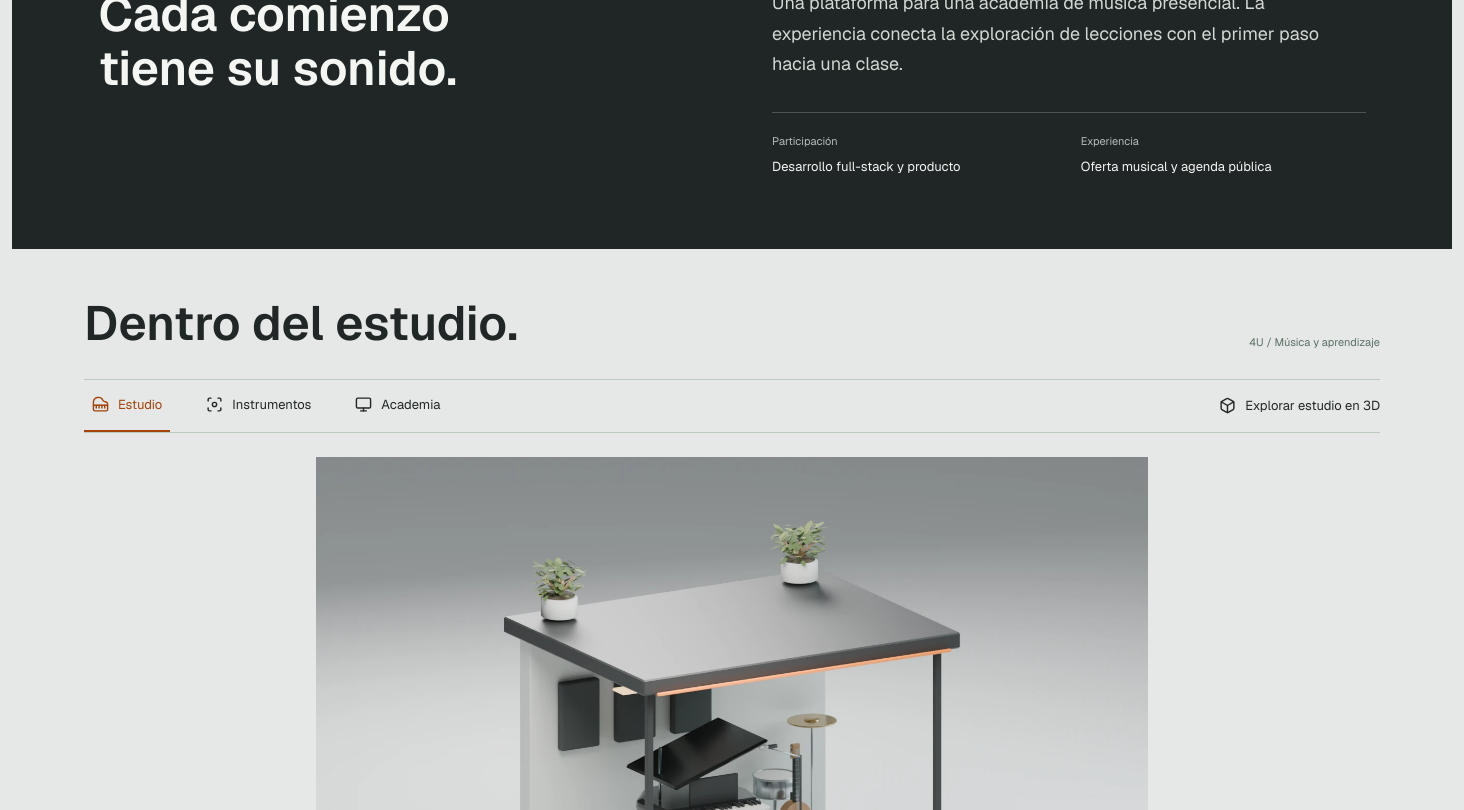
Scenario: Academy case › switches three views without loading a canvas
This screenshot has width=1464, height=810.
(page scrolled)
Click the button "Instrumentos" at (259, 406), box [198,380,319,432]
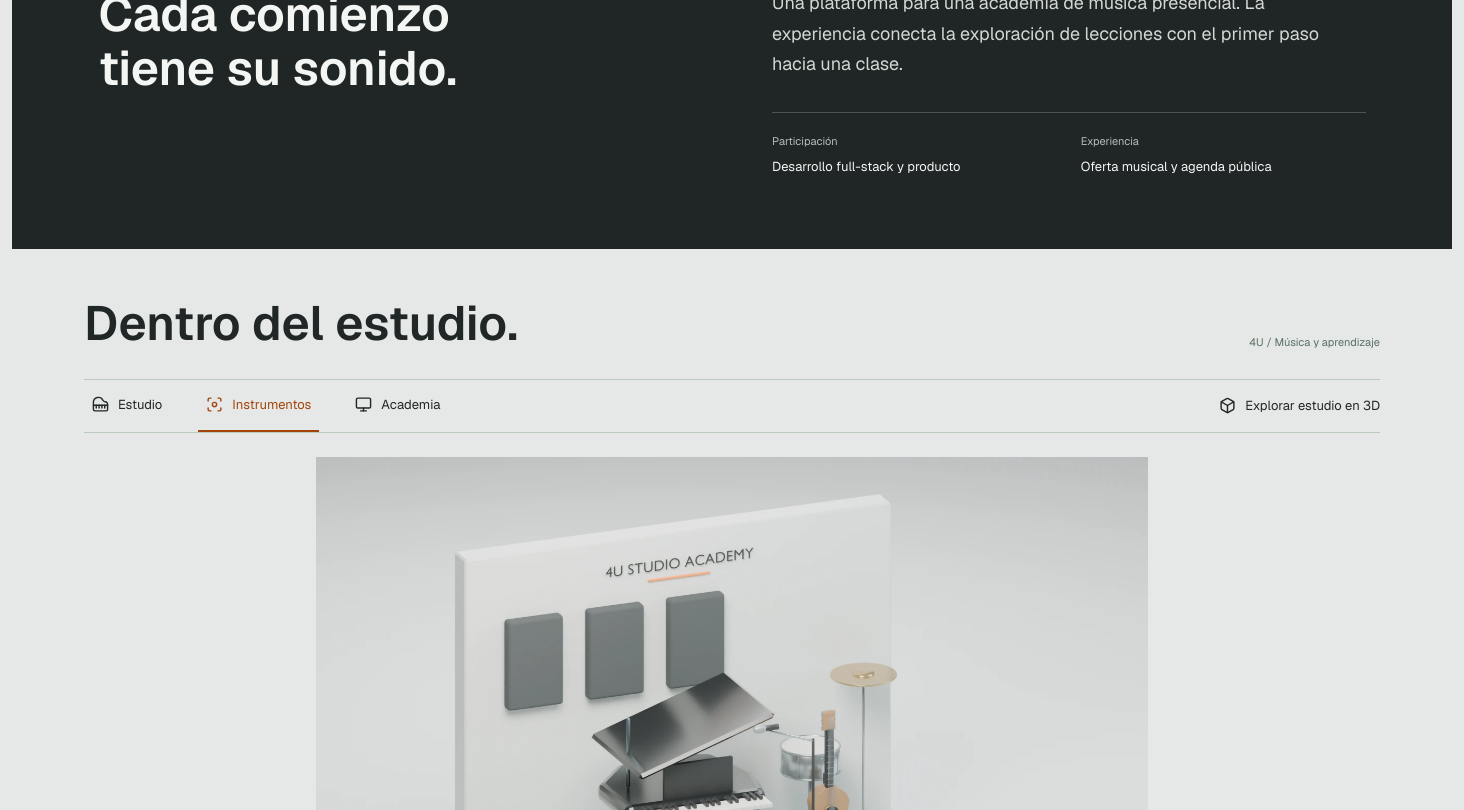
Click the button "Academia" at (398, 406), box [347,380,448,432]
(page scrolled)
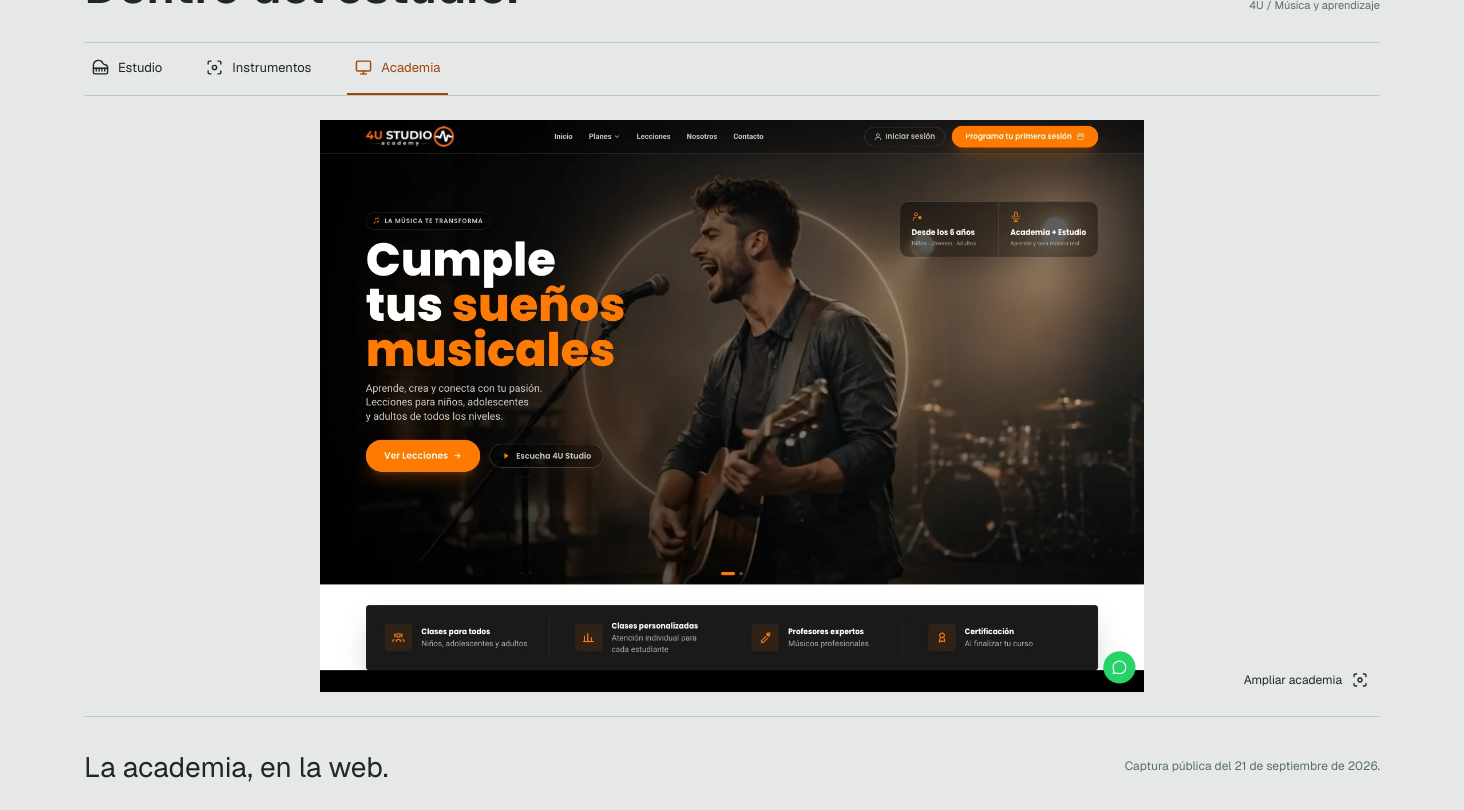
Now the picture with alt text "Inicio de 4U Studio Academy" is shown
